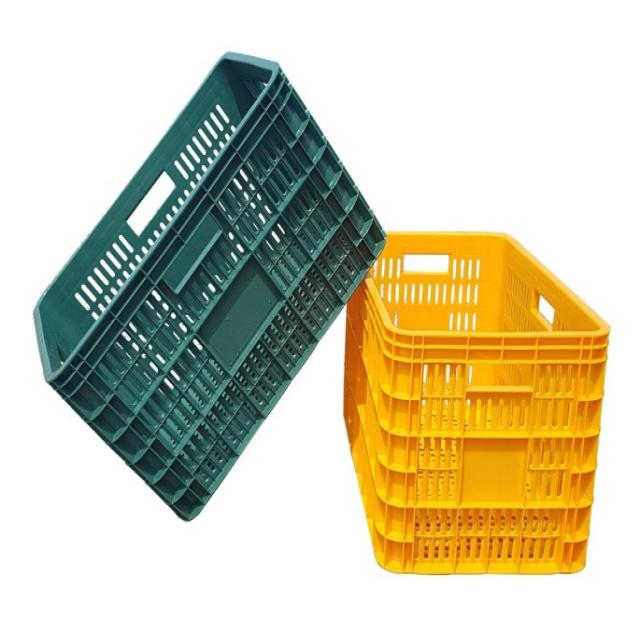basket: (0, 29, 437, 527), (343, 233, 611, 576)
